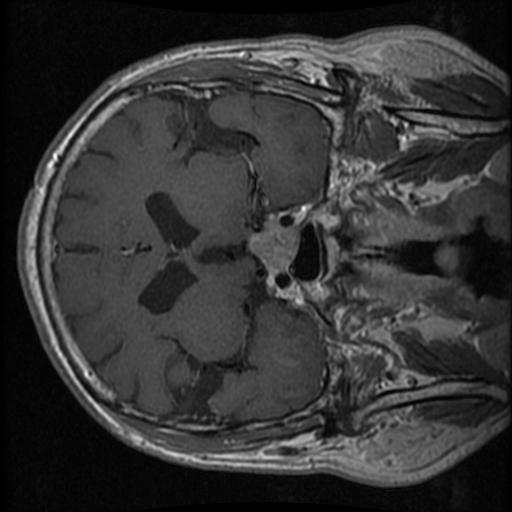pituitary tumour: (247, 219, 298, 273)
